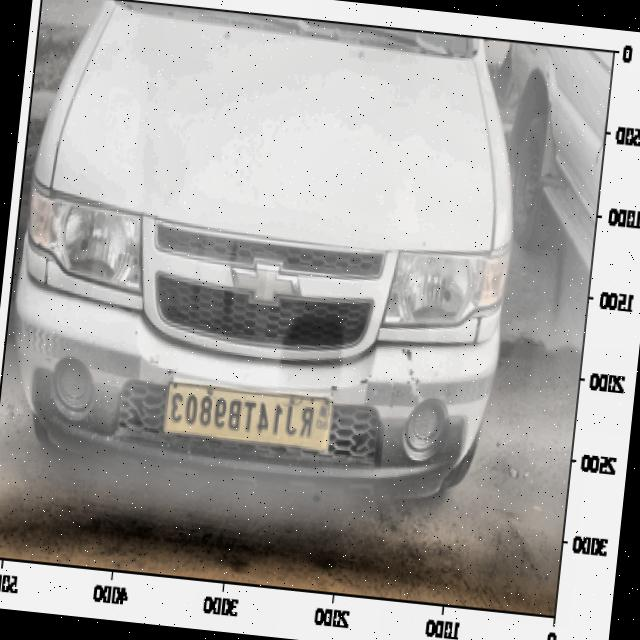license_plate: (163, 382, 320, 452)
